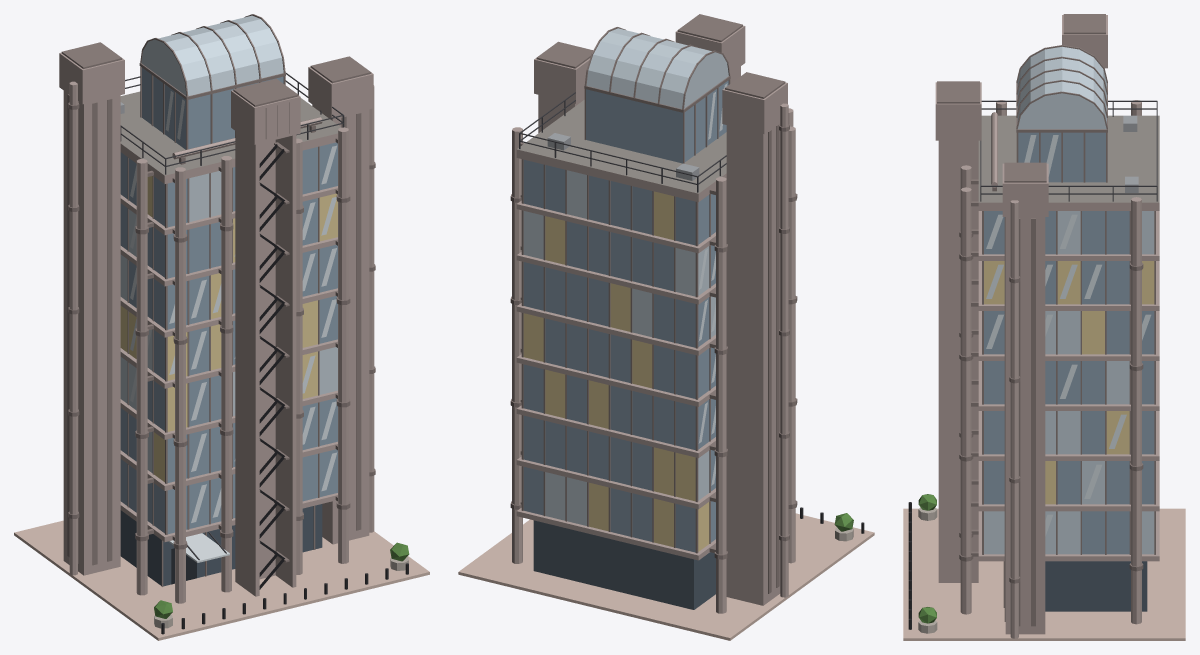
The model's file is OfisKulesi_karisik_1_2_Hafif.fbx.
3 renders of one model, left to right at view 1: azimuth 30°, elevation 25°; view 2: azimuth 150°, elevation 25°; view 3: azimuth 270°, elevation 25°, orthographic. The views are drawn at different scales.
Visible parts, largest first — view 1: OfisKulesi_karisik_1_2_Hafif; view 2: OfisKulesi_karisik_1_2_Hafif; view 3: OfisKulesi_karisik_1_2_Hafif.
Part boxes in pixels (left/top/right/bottom): OfisKulesi_karisik_1_2_Hafif: left=14, top=14, right=429, bottom=640; OfisKulesi_karisik_1_2_Hafif: left=458, top=14, right=874, bottom=640; OfisKulesi_karisik_1_2_Hafif: left=903, top=14, right=1185, bottom=640.
Bounding box in the file's own units: 20.32 × 36.52 × 18.4.
